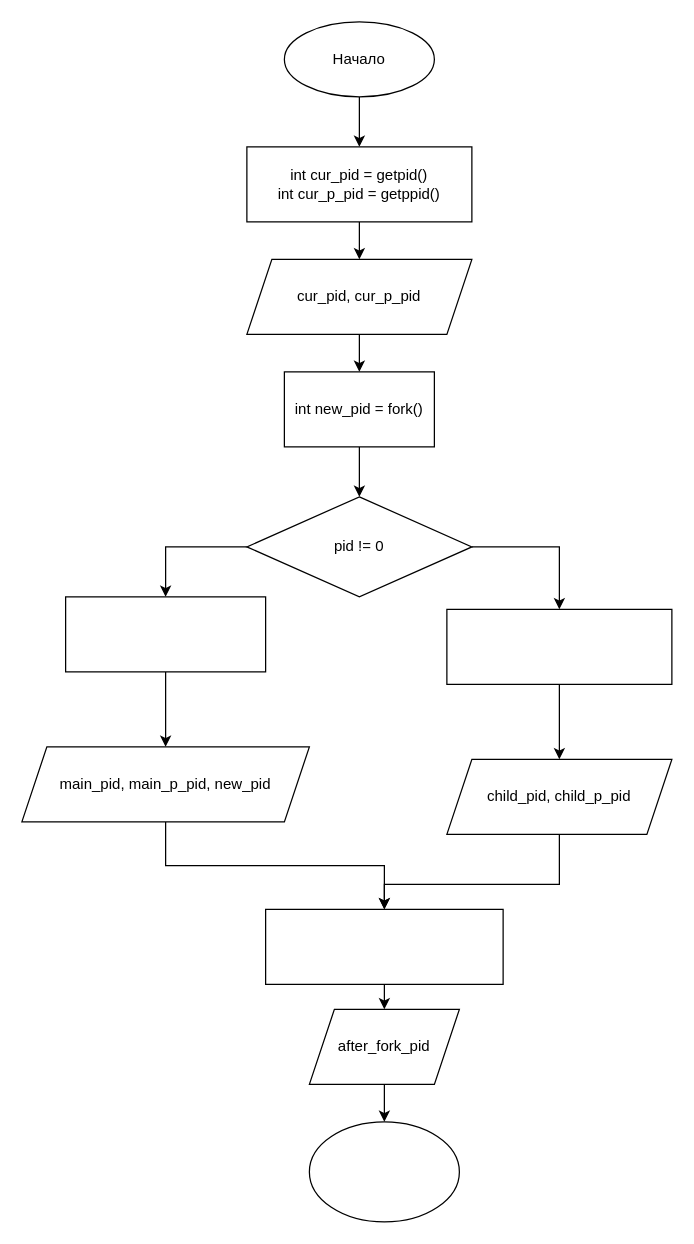
Image size: 694x1244. Some labels were removed from this diagram. The shapes that lost their labels are listed below. From the top down, each one's centre as x and y in pixels, then its label:
the point at 165,634: int main_pid = getpid() int main_p_pid = getppid()
the point at 559,646: int child_pid = get_pid() int child_p_pid = getppid()
the point at 383,946: int after_fork_pid = getpid()
the point at 383,1171: Конец
